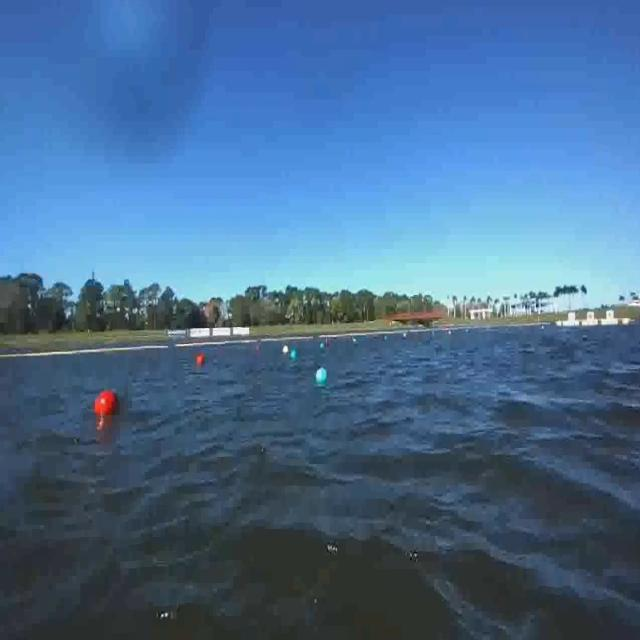green-buoy: (316, 367, 328, 386), (290, 349, 297, 361)
red-buoy: (93, 392, 117, 419), (195, 350, 207, 370)
